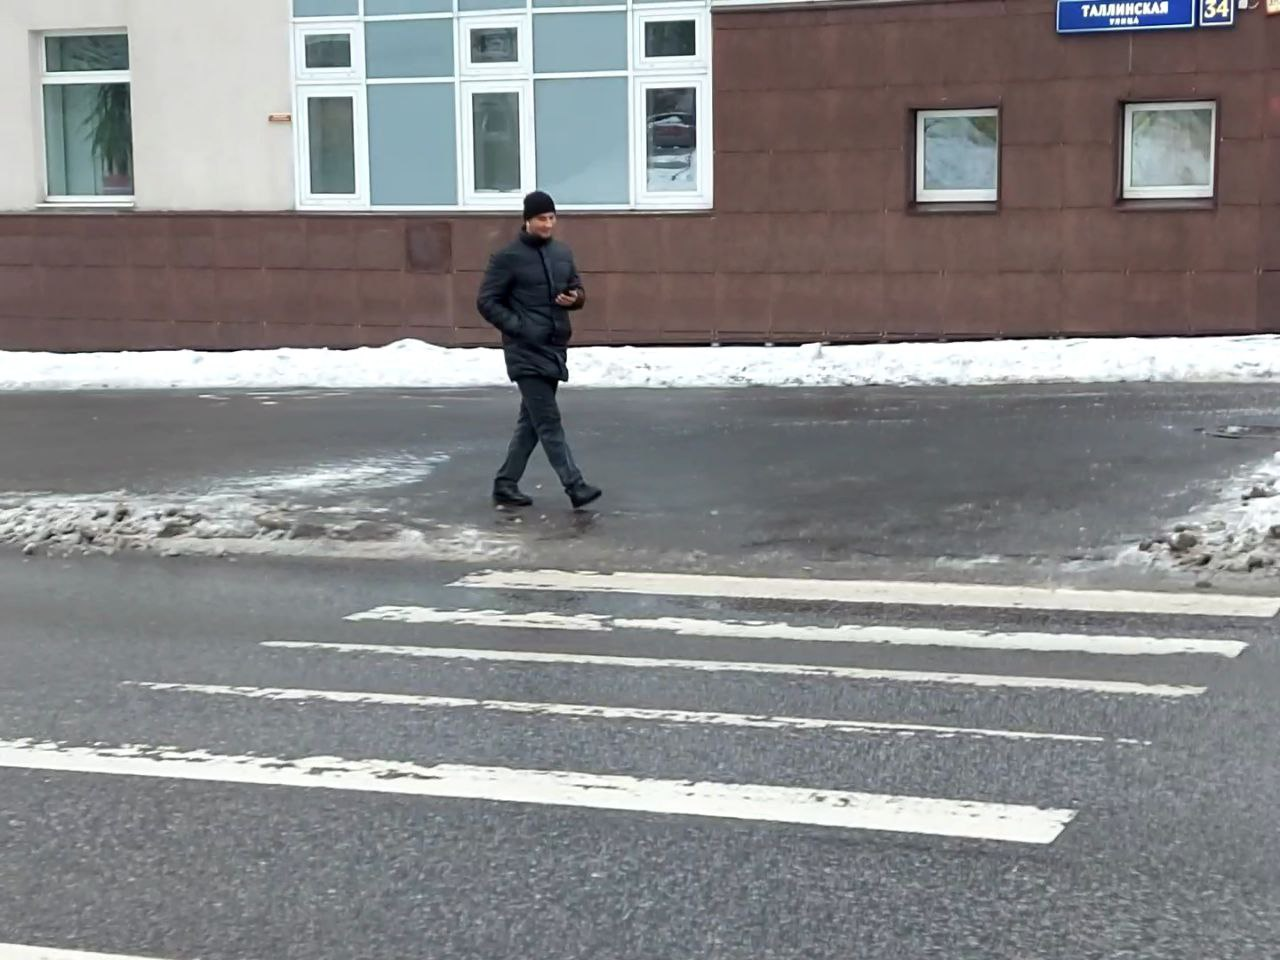sombie: (449, 167, 632, 535)
